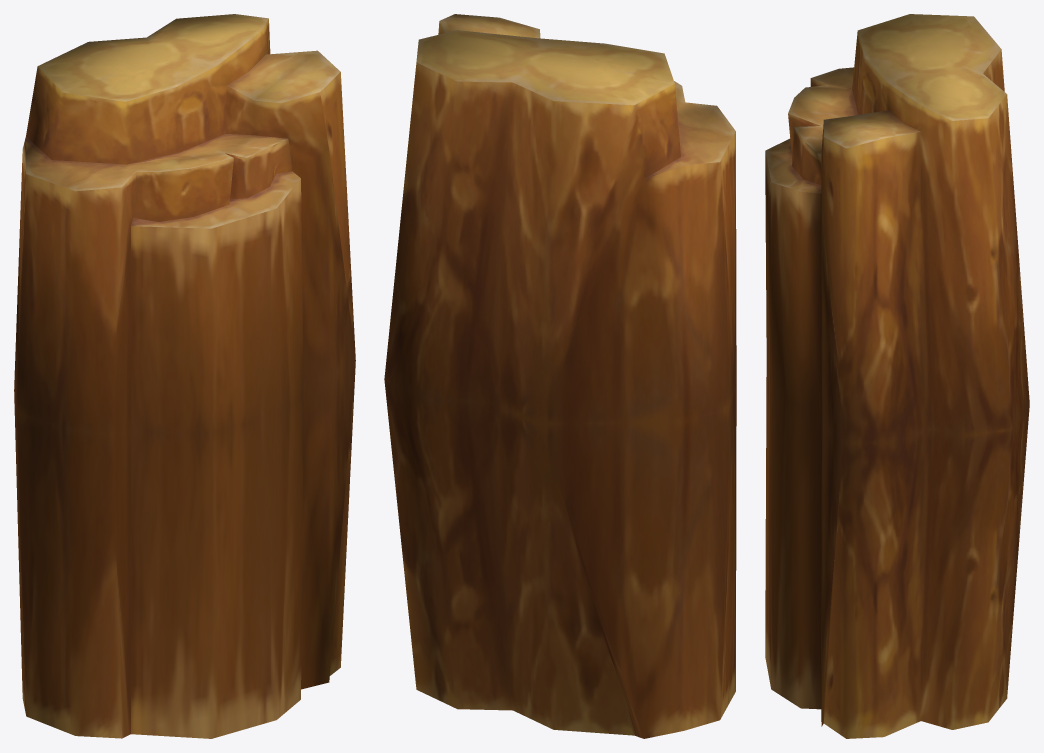
Rendered from Stage_ShaMo_ShanBi03.FBX.
The picture shows the model from 3 angles, left to right: view 1: azimuth 30°, elevation 25°; view 2: azimuth 150°, elevation 25°; view 3: azimuth 270°, elevation 25°; orthographic projection. The views are drawn at different scales.
Parts seen in each view (by area): view 1: Stage_ShaMo_ShanBi03; view 2: Stage_ShaMo_ShanBi03; view 3: Stage_ShaMo_ShanBi03.
Boxes of the visible parts, left/top/right/bottom form: Stage_ShaMo_ShanBi03: left=14, top=14, right=355, bottom=738; Stage_ShaMo_ShanBi03: left=384, top=14, right=736, bottom=738; Stage_ShaMo_ShanBi03: left=765, top=14, right=1029, bottom=738.
Bounding box in the file's own units: 500 × 959 × 375.
